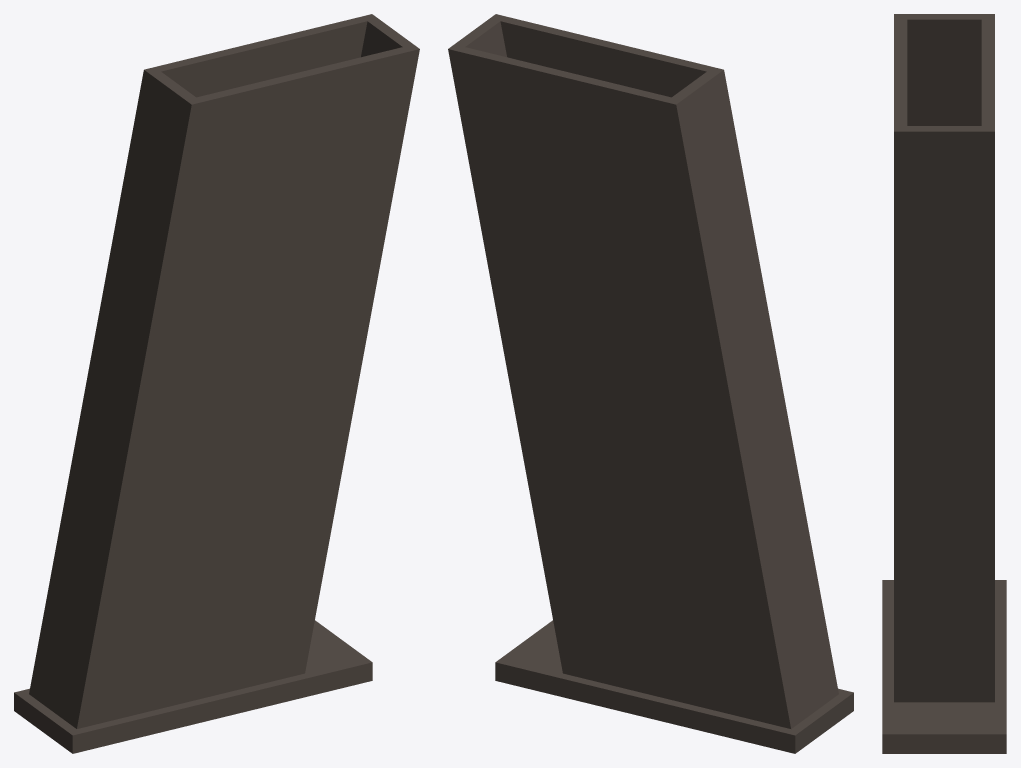
File: Pistol3_06_3.fbx
3 views of the same model, side by side, from view 1: azimuth 30°, elevation 25°; view 2: azimuth 150°, elevation 25°; view 3: azimuth 270°, elevation 25° (orthographic). The views are drawn at different scales.
Parts seen in each view (by area): view 1: Pistol3_06_3; view 2: Pistol3_06_3; view 3: Pistol3_06_3.
Boxes of the visible parts, left/top/right/bottom form: Pistol3_06_3: left=14, top=14, right=419, bottom=753; Pistol3_06_3: left=448, top=14, right=853, bottom=753; Pistol3_06_3: left=882, top=14, right=1006, bottom=753.
Bounding box in the file's own units: 0.0918 × 0.1529 × 0.0265.
